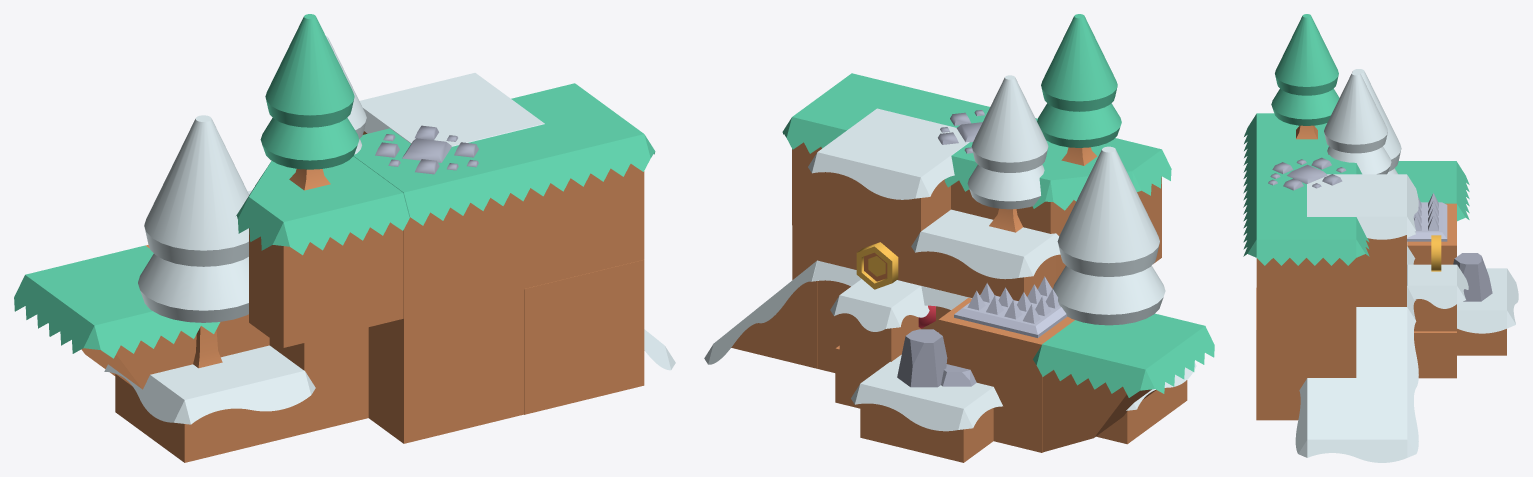
Rendered from island-2.obj.
The picture shows the model from 3 angles, left to right: view 1: azimuth 30°, elevation 25°; view 2: azimuth 150°, elevation 25°; view 3: azimuth 270°, elevation 25°; orthographic projection. The views are drawn at different scales.
Parts seen in each view (by area): view 1: blockLong, blockCornerSmall, blockDirt, treePineSnow, blockSnowHalf.002, blockCliff, treePineSmall, blockSnow.001, blockDirtHalf.004, blockDirtHalf.003, blockSnow.002, stones (+3 smaller); view 2: blockSnow.001, blockCliff, treePineSnow, blockLong, blockSnowHalf.001, blockSnowHalf, treePineSmall, treePineSmallSnow, blockSnowQuarter, blockCornerSmall, blockSnowSlope, blockDirtHalf.002 (+9 smaller); view 3: blockLong, blockSnowSlope, blockSnow.001, treePineSmall, blockDirtHalf.004, treePineSmallSnow, blockSnowHalf.001, blockSnowQuarter, blockCornerSmall, blockCliff, blockDirtHalf.003, blockDirtHalf.001 (+6 smaller).
Part boxes in pixels (<box>): blockLong: <box>353,83,655,318</box>; blockCornerSmall: <box>236,156,409,347</box>; blockDirt: <box>368,289,523,443</box>; treePineSnow: <box>138,115,248,368</box>; blockSnowHalf.002: <box>104,345,315,462</box>; blockCliff: <box>14,245,220,389</box>; treePineSmall: <box>260,14,359,190</box>; blockSnow.001: <box>359,73,544,146</box>; blockDirtHalf.004: <box>524,260,644,351</box>; blockDirtHalf.003: <box>524,323,644,414</box>; blockSnow.002: <box>269,327,368,433</box>; stones: <box>375,125,478,174</box>; blockSnow.001: <box>808,108,969,285</box>; blockCliff: <box>1033,313,1214,452</box>; treePineSnow: <box>1053,146,1165,325</box>; blockLong: <box>782,73,1037,231</box>; blockSnowHalf.001: <box>851,354,1002,462</box>; blockSnowHalf: <box>911,209,1060,300</box>; treePineSmall: <box>1037,14,1121,165</box>; treePineSmallSnow: <box>967,75,1048,232</box>; blockSnowQuarter: <box>830,279,929,408</box>; blockCornerSmall: <box>998,138,1171,281</box>; blockSnowSlope: <box>704,260,818,368</box>; blockDirtHalf.002: <box>938,298,1074,398</box>; blockLong: <box>1243,155,1369,329</box>; blockSnowSlope: <box>1295,307,1418,462</box>; blockSnow.001: <box>1307,174,1418,306</box>; treePineSmall: <box>1271,14,1339,139</box>; blockDirtHalf.004: <box>1256,288,1356,375</box>; treePineSmallSnow: <box>1324,71,1391,174</box>; blockSnowHalf.001: <box>1457,268,1518,355</box>; blockSnowQuarter: <box>1407,264,1468,331</box>; blockCornerSmall: <box>1243,113,1328,172</box>; blockCliff: <box>1394,161,1469,221</box>; blockDirtHalf.003: <box>1256,375,1356,420</box>; blockDirtHalf.001: <box>1414,331,1456,378</box>.
Bounding box in the file's own units: 4.71 × 3.51 × 2.76.
